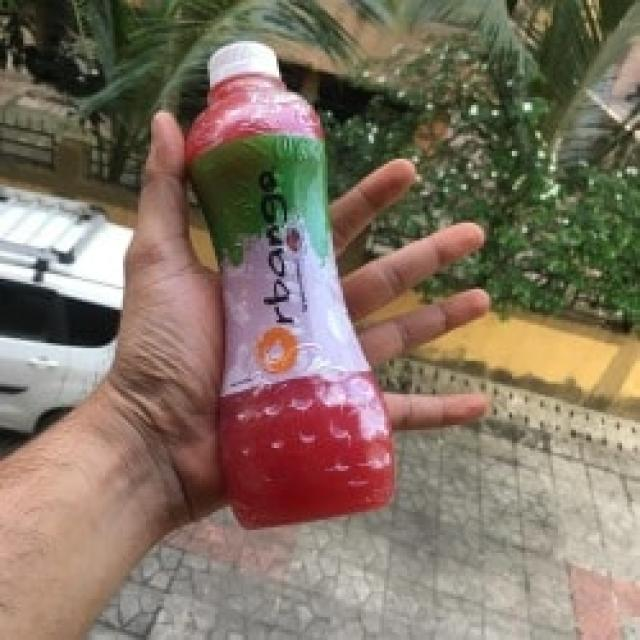plastic_bottle: (170, 33, 364, 524)
